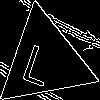L: (20, 35, 60, 87)
